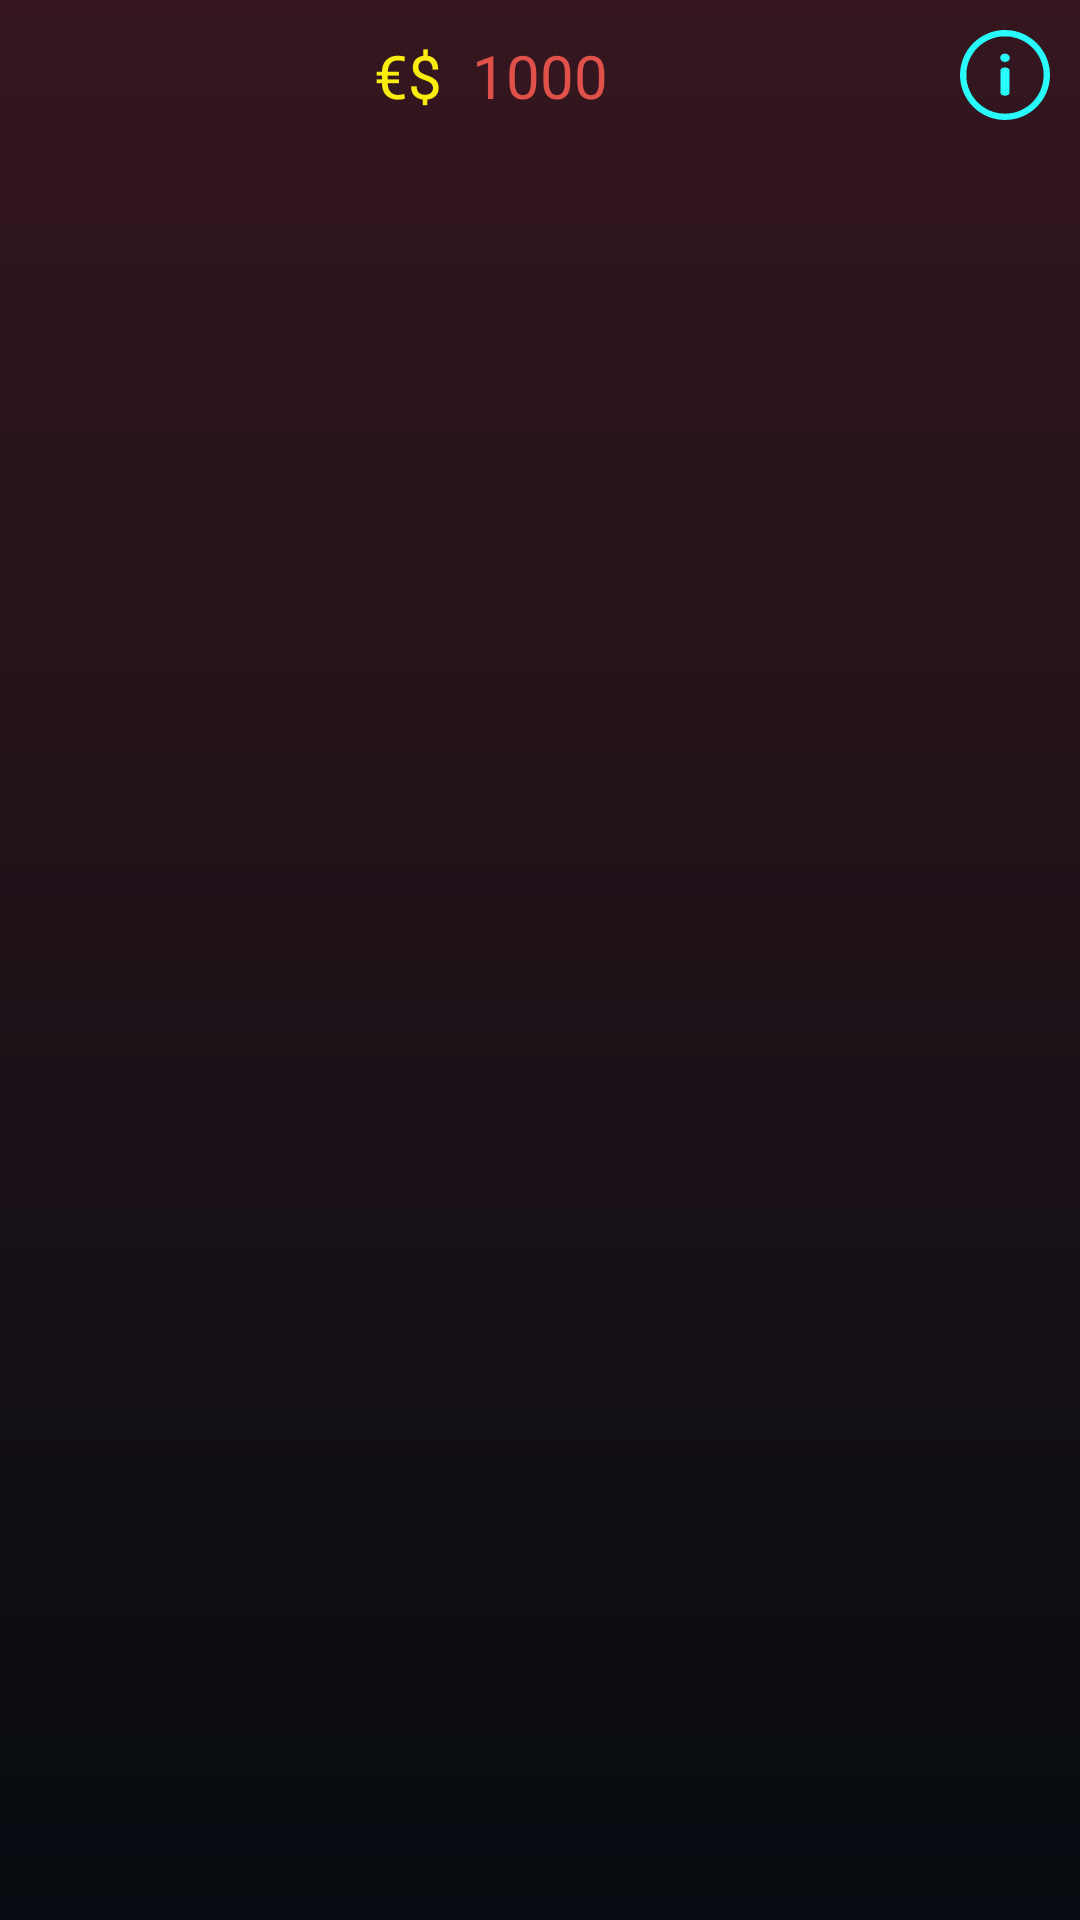

Named icons in this screenshot (1080×1920) and their centers, (x,y):
info cyber: (1005,75)
